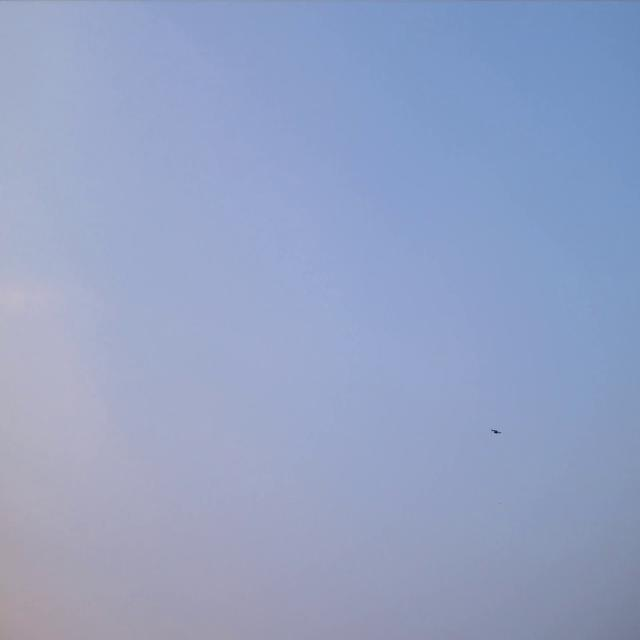UAV: (494, 430, 500, 433)
